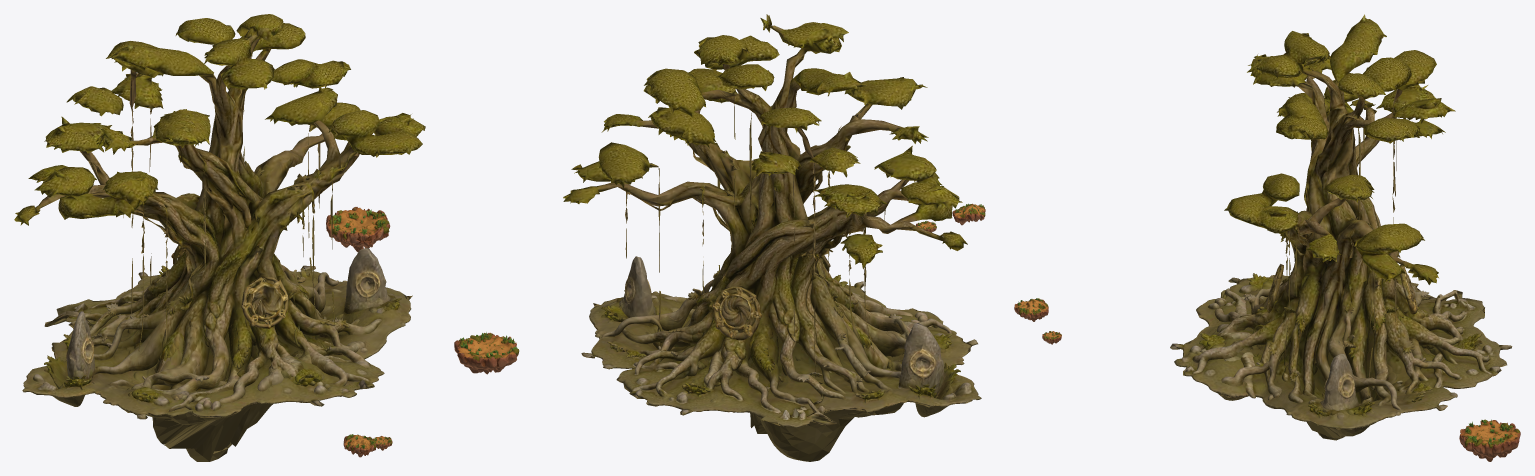
Rendered from 02-ancient-tree.glb.
3 renders of one model, left to right at view 1: azimuth 30°, elevation 25°; view 2: azimuth 150°, elevation 25°; view 3: azimuth 270°, elevation 25°, orthographic. The views are drawn at different scales.
Visible parts, largest first — view 1: tripo_node_1417d2f9-6a41-4c19-8d22-cc2a3ca2383e, tripo_node_7f0ab475-0fcf-4e6c-9da8-ec6ed68006bb.001, tripo_node_7f0ab475-0fcf-4e6c-9da8-ec6ed68006bb.002; view 2: tripo_node_1417d2f9-6a41-4c19-8d22-cc2a3ca2383e, tripo_node_7f0ab475-0fcf-4e6c-9da8-ec6ed68006bb.001; view 3: tripo_node_1417d2f9-6a41-4c19-8d22-cc2a3ca2383e, tripo_node_7f0ab475-0fcf-4e6c-9da8-ec6ed68006bb.001, tripo_node_7f0ab475-0fcf-4e6c-9da8-ec6ed68006bb.002.
Part boxes in pixels (x1,y1,x2,y2): tripo_node_1417d2f9-6a41-4c19-8d22-cc2a3ca2383e: (14,14,425,461); tripo_node_7f0ab475-0fcf-4e6c-9da8-ec6ed68006bb.001: (326,207,390,252); tripo_node_7f0ab475-0fcf-4e6c-9da8-ec6ed68006bb.002: (343,434,376,457); tripo_node_1417d2f9-6a41-4c19-8d22-cc2a3ca2383e: (563,14,981,461); tripo_node_7f0ab475-0fcf-4e6c-9da8-ec6ed68006bb.001: (454,332,519,374); tripo_node_1417d2f9-6a41-4c19-8d22-cc2a3ca2383e: (1170,14,1512,440); tripo_node_7f0ab475-0fcf-4e6c-9da8-ec6ed68006bb.001: (1459,419,1520,461); tripo_node_7f0ab475-0fcf-4e6c-9da8-ec6ed68006bb.002: (1014,298,1048,321).
Bounding box in the file's own units: 1.29 × 1.2 × 1.35.
2 materials, 2 textured.
